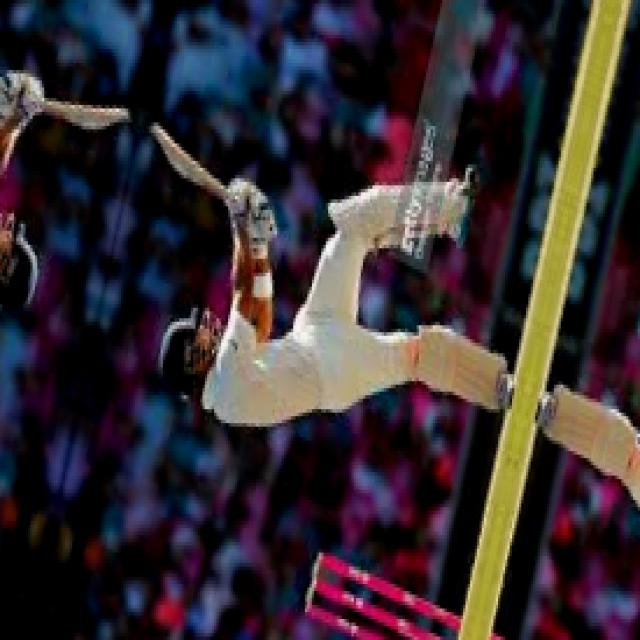toe: (144, 118, 179, 149)
